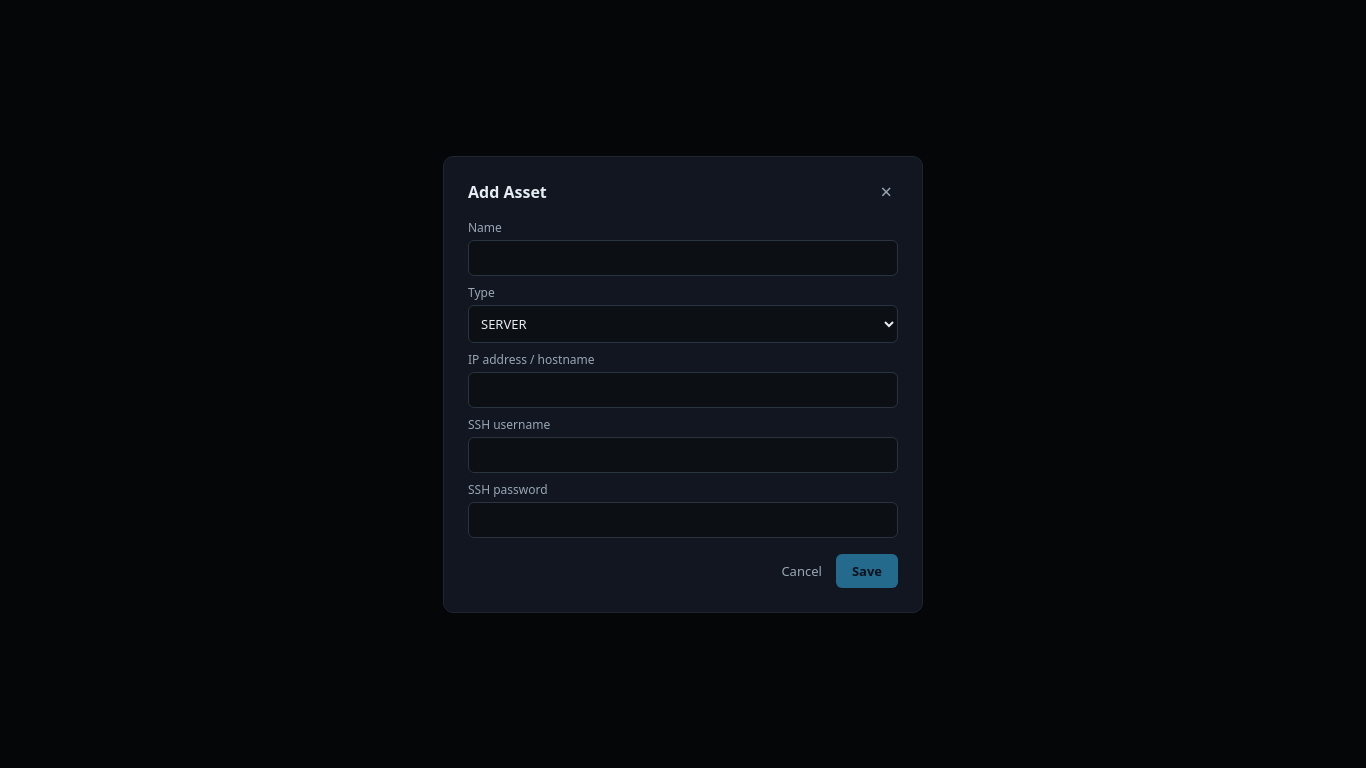
Test: CreateAssetModalComponent › shows a form-level error and keeps the modal open on a 409 duplicate IP
In the field with test id "form-name": (683, 258) [468,240,898,276], type "web-server-01"
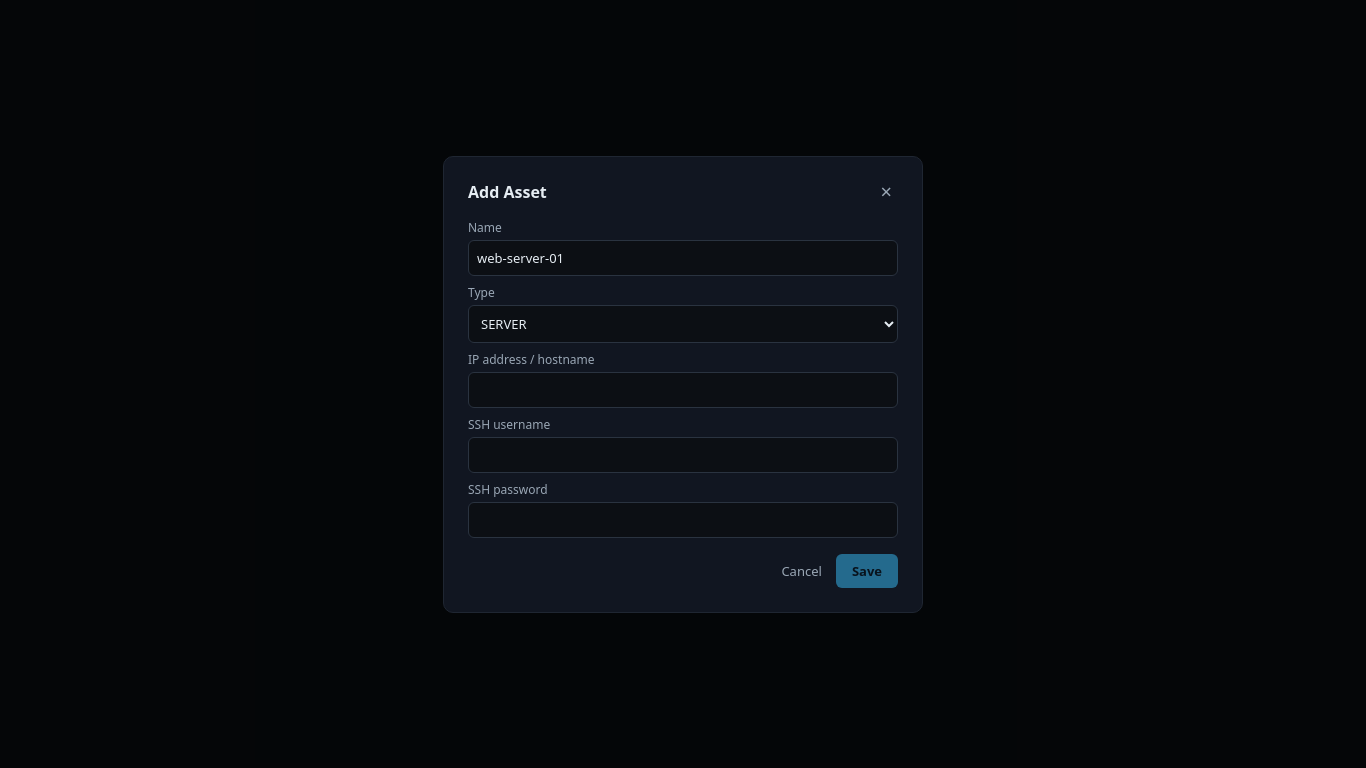
Select "SERVER" in the dropdown with test id "form-type": (683, 324) [468,304,898,342]
In the field with test id "form-ip": (683, 390) [468,372,898,408], type "192.168.1.10"
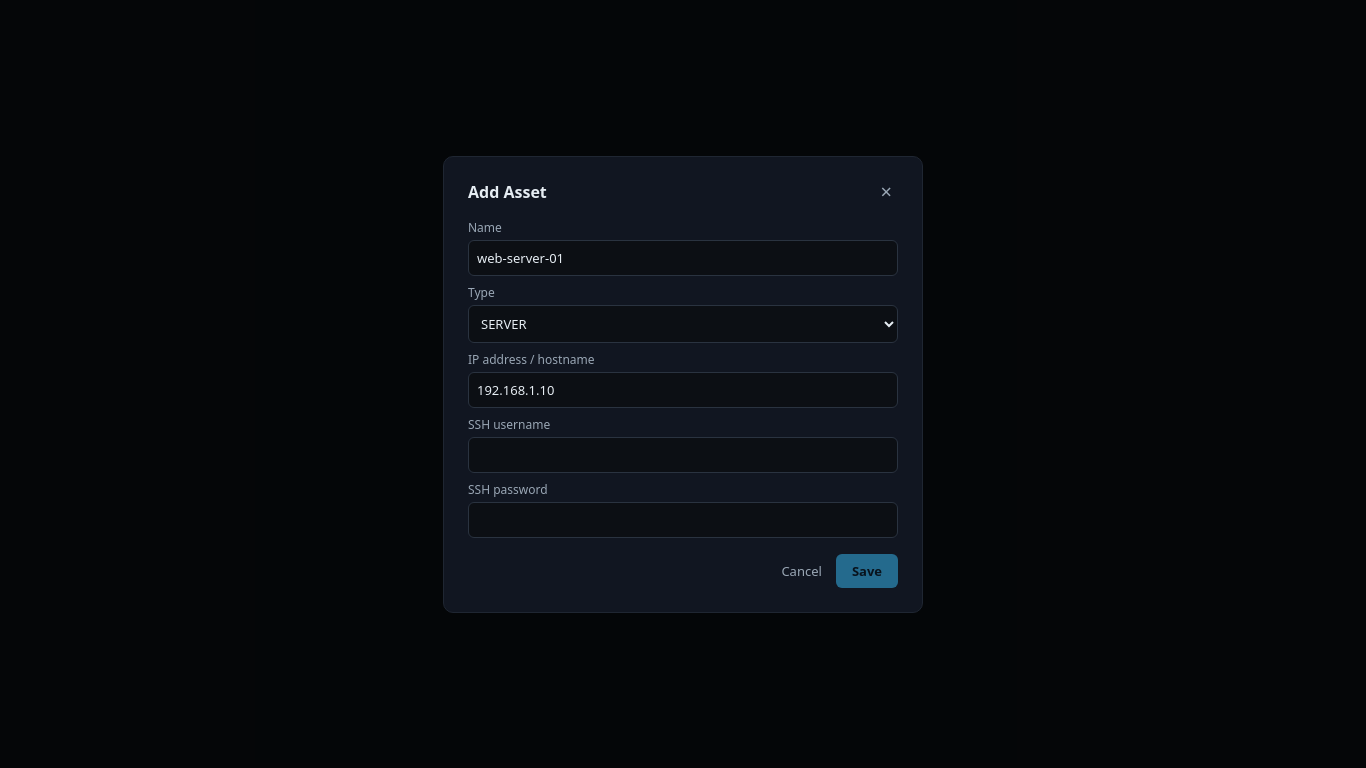
In the field with test id "form-username": (683, 454) [468,436,898,472], type "sshuser"
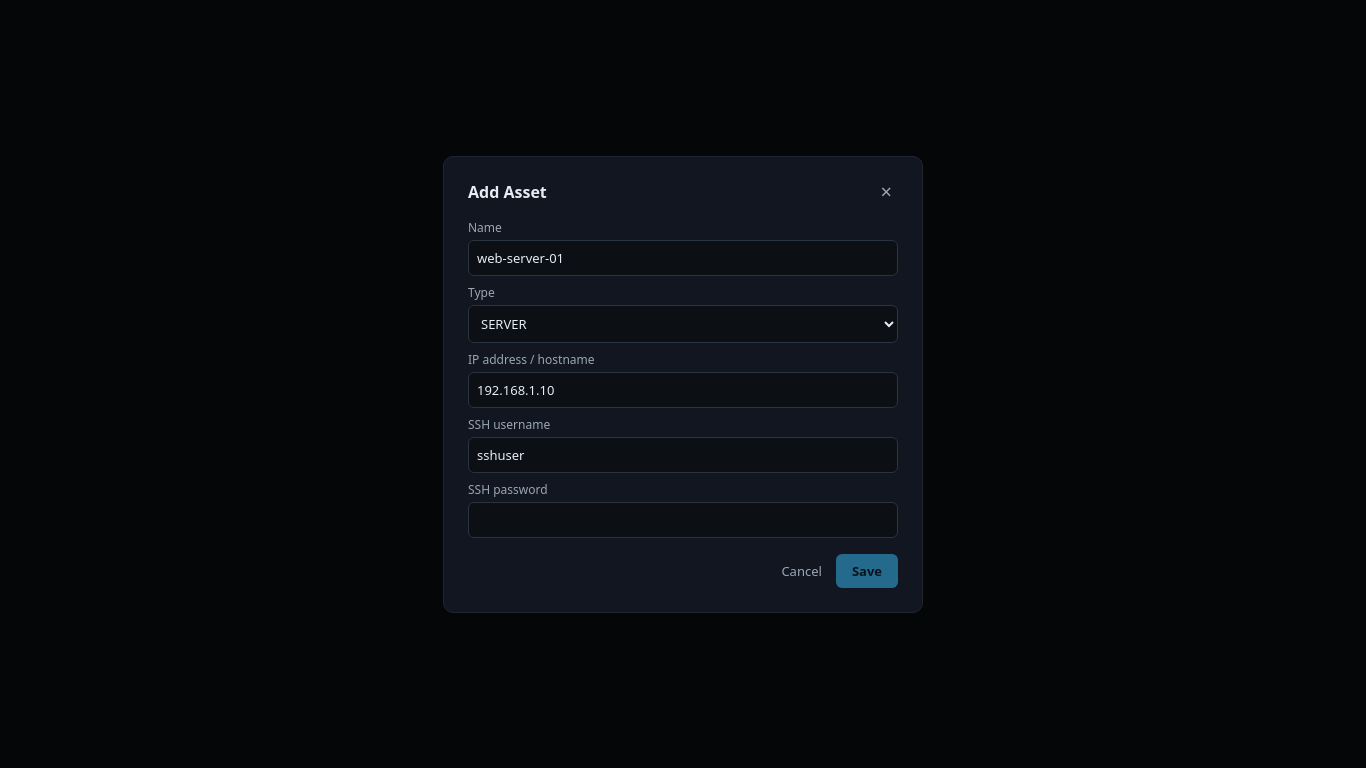
In the password field with test id "form-password": (683, 520) [468,502,898,538], type "secret"
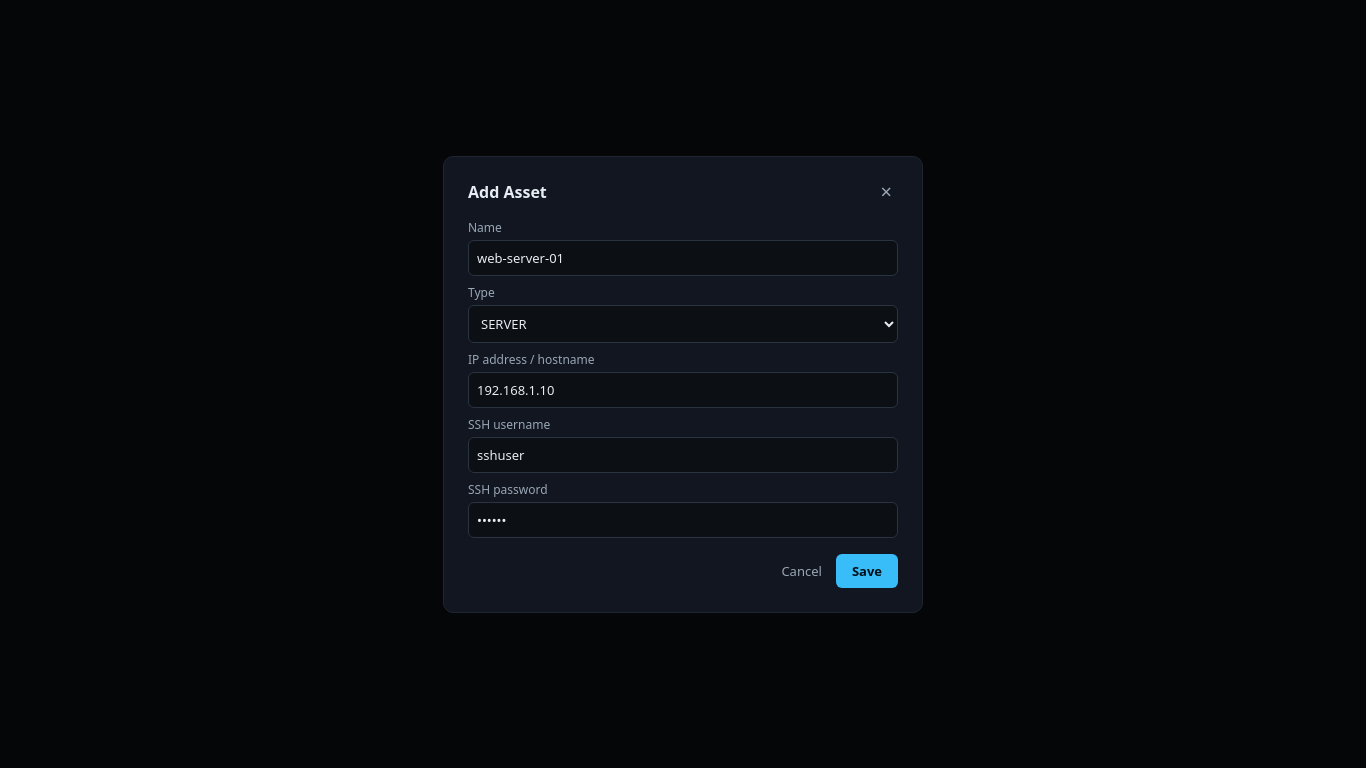
Click the button with test id "modal-submit": click(867, 570) [836,554,898,588]
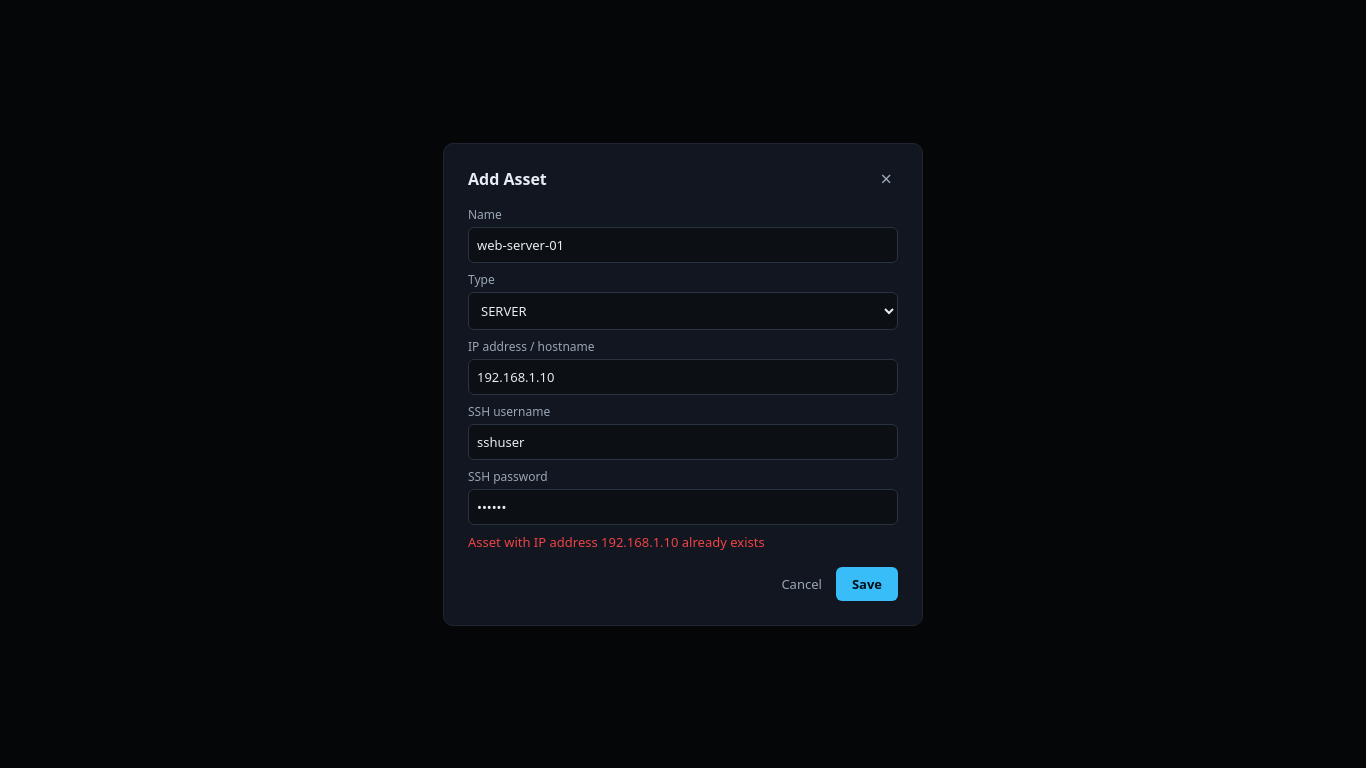
Expected: the message with test id "form-error" shows "192.168.1.10", [468,532,765,550]
